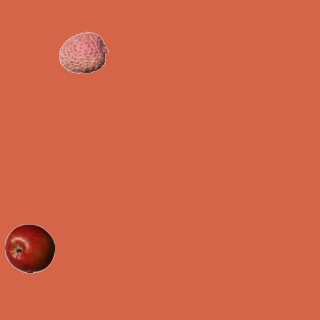Apple Braeburn: (4, 223, 54, 273)
Lychee: (58, 27, 108, 77)
